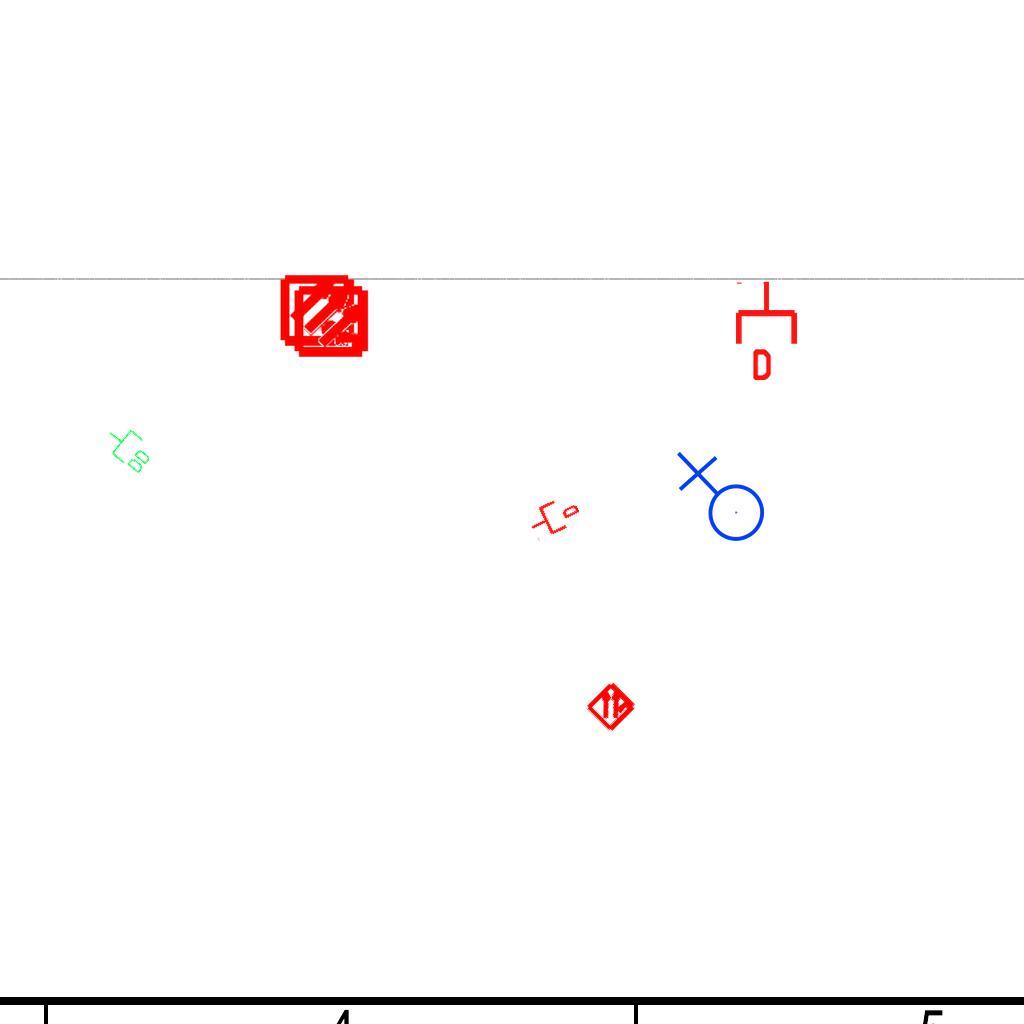Datenanschluss_einfach: (732, 280, 801, 380), (524, 490, 584, 544)
Datenanschluss_zweifach: (97, 418, 160, 478)
Elektroanschluss_allgemein_230V_Geraeteanschlussdose_230V: (672, 451, 766, 550)
OT_Multisensormelder_(Kombination_RMO_WMD): (263, 254, 376, 367), (277, 265, 390, 378), (572, 666, 652, 746)
